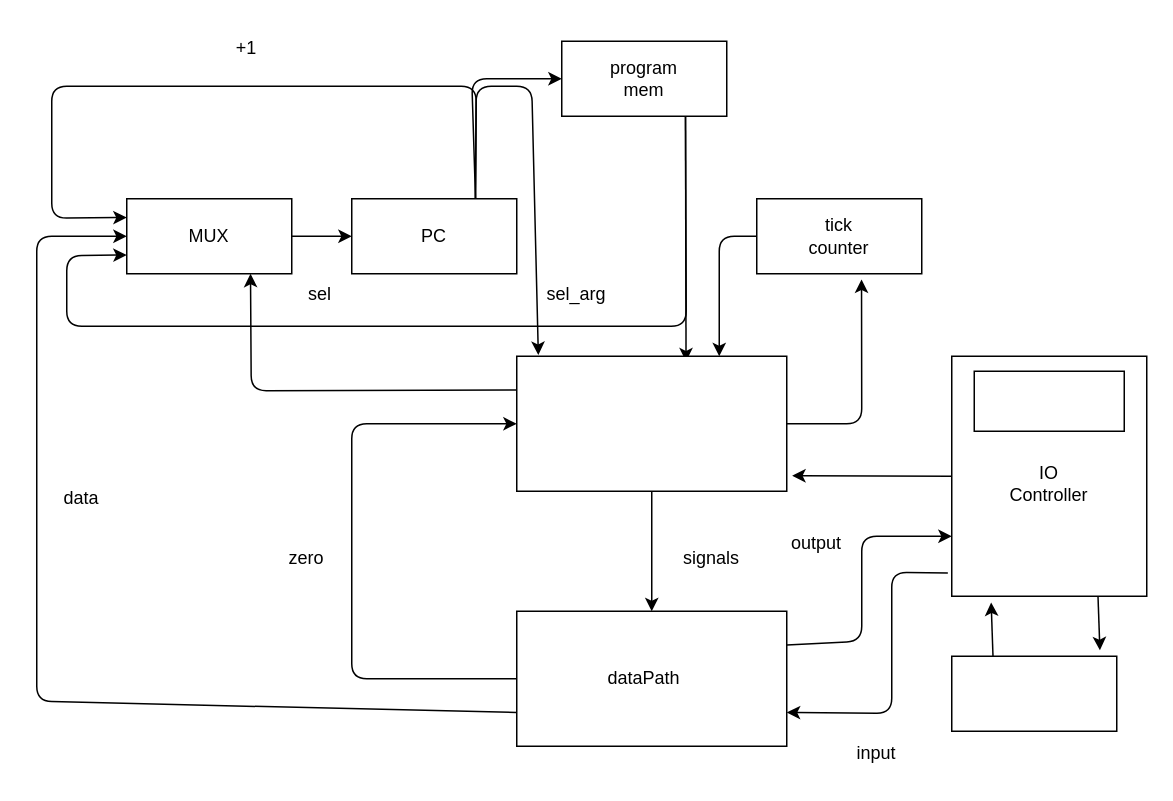
Some shapes in this 1173 by 801 pixel diagram are drawn without their labels. Each missing label, with the centre of its shape:
decoder: (x=651, y=423)
int flag: (x=1048, y=400)
IO port: (x=1033, y=693)
